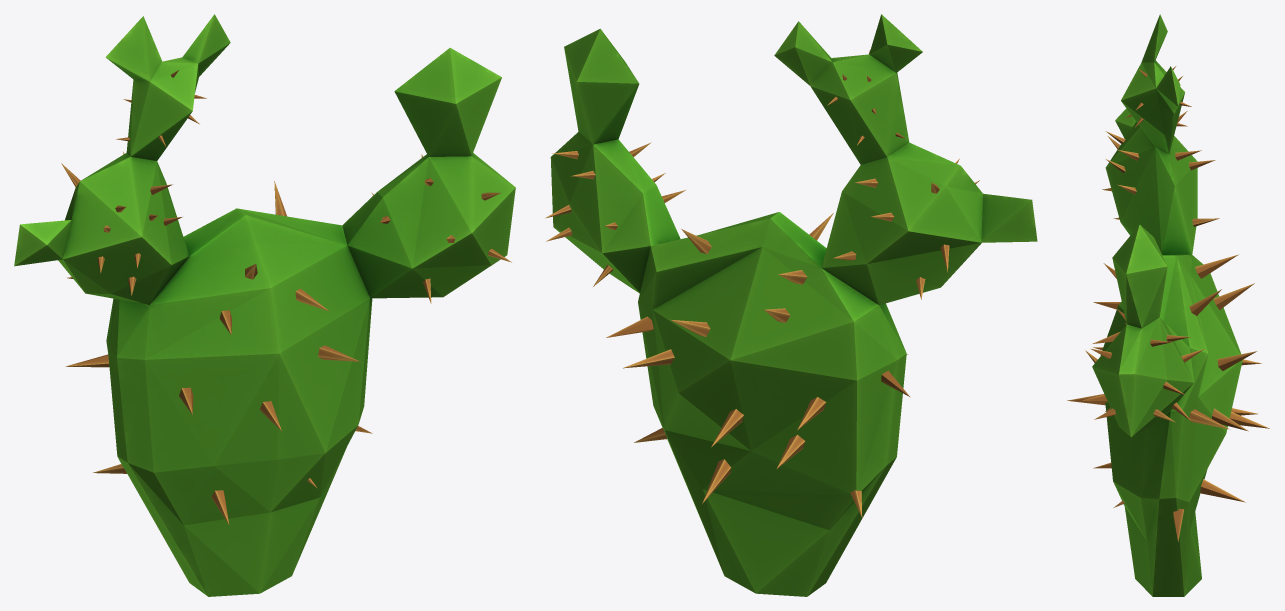
Rendered from Cactus_1.fbx.
3 views of the same model, side by side, from view 1: azimuth 30°, elevation 25°; view 2: azimuth 150°, elevation 25°; view 3: azimuth 270°, elevation 25° (orthographic). The views are drawn at different scales.
Visible parts, largest first — view 1: Cactus_1; view 2: Cactus_1; view 3: Cactus_1.
Part boxes in pixels (<box>): Cactus_1: <box>14,14,515,596</box>; Cactus_1: <box>545,14,1037,596</box>; Cactus_1: <box>1067,14,1269,596</box>.
Bounding box in the file's own units: 45.03 × 18.41 × 51.77.
1 material, 1 textured.
